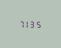five: (36, 20, 41, 28)
one: (24, 19, 29, 27)
seven: (18, 19, 23, 27)
three: (30, 20, 35, 28)
